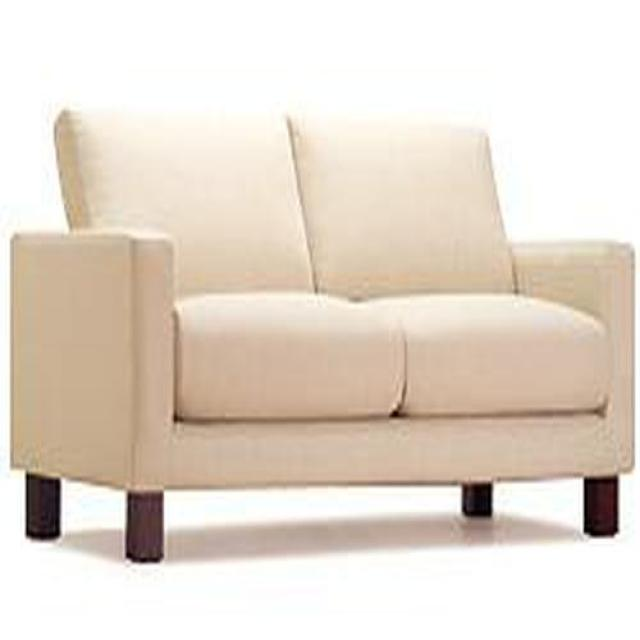sofa: (12, 109, 636, 563)
